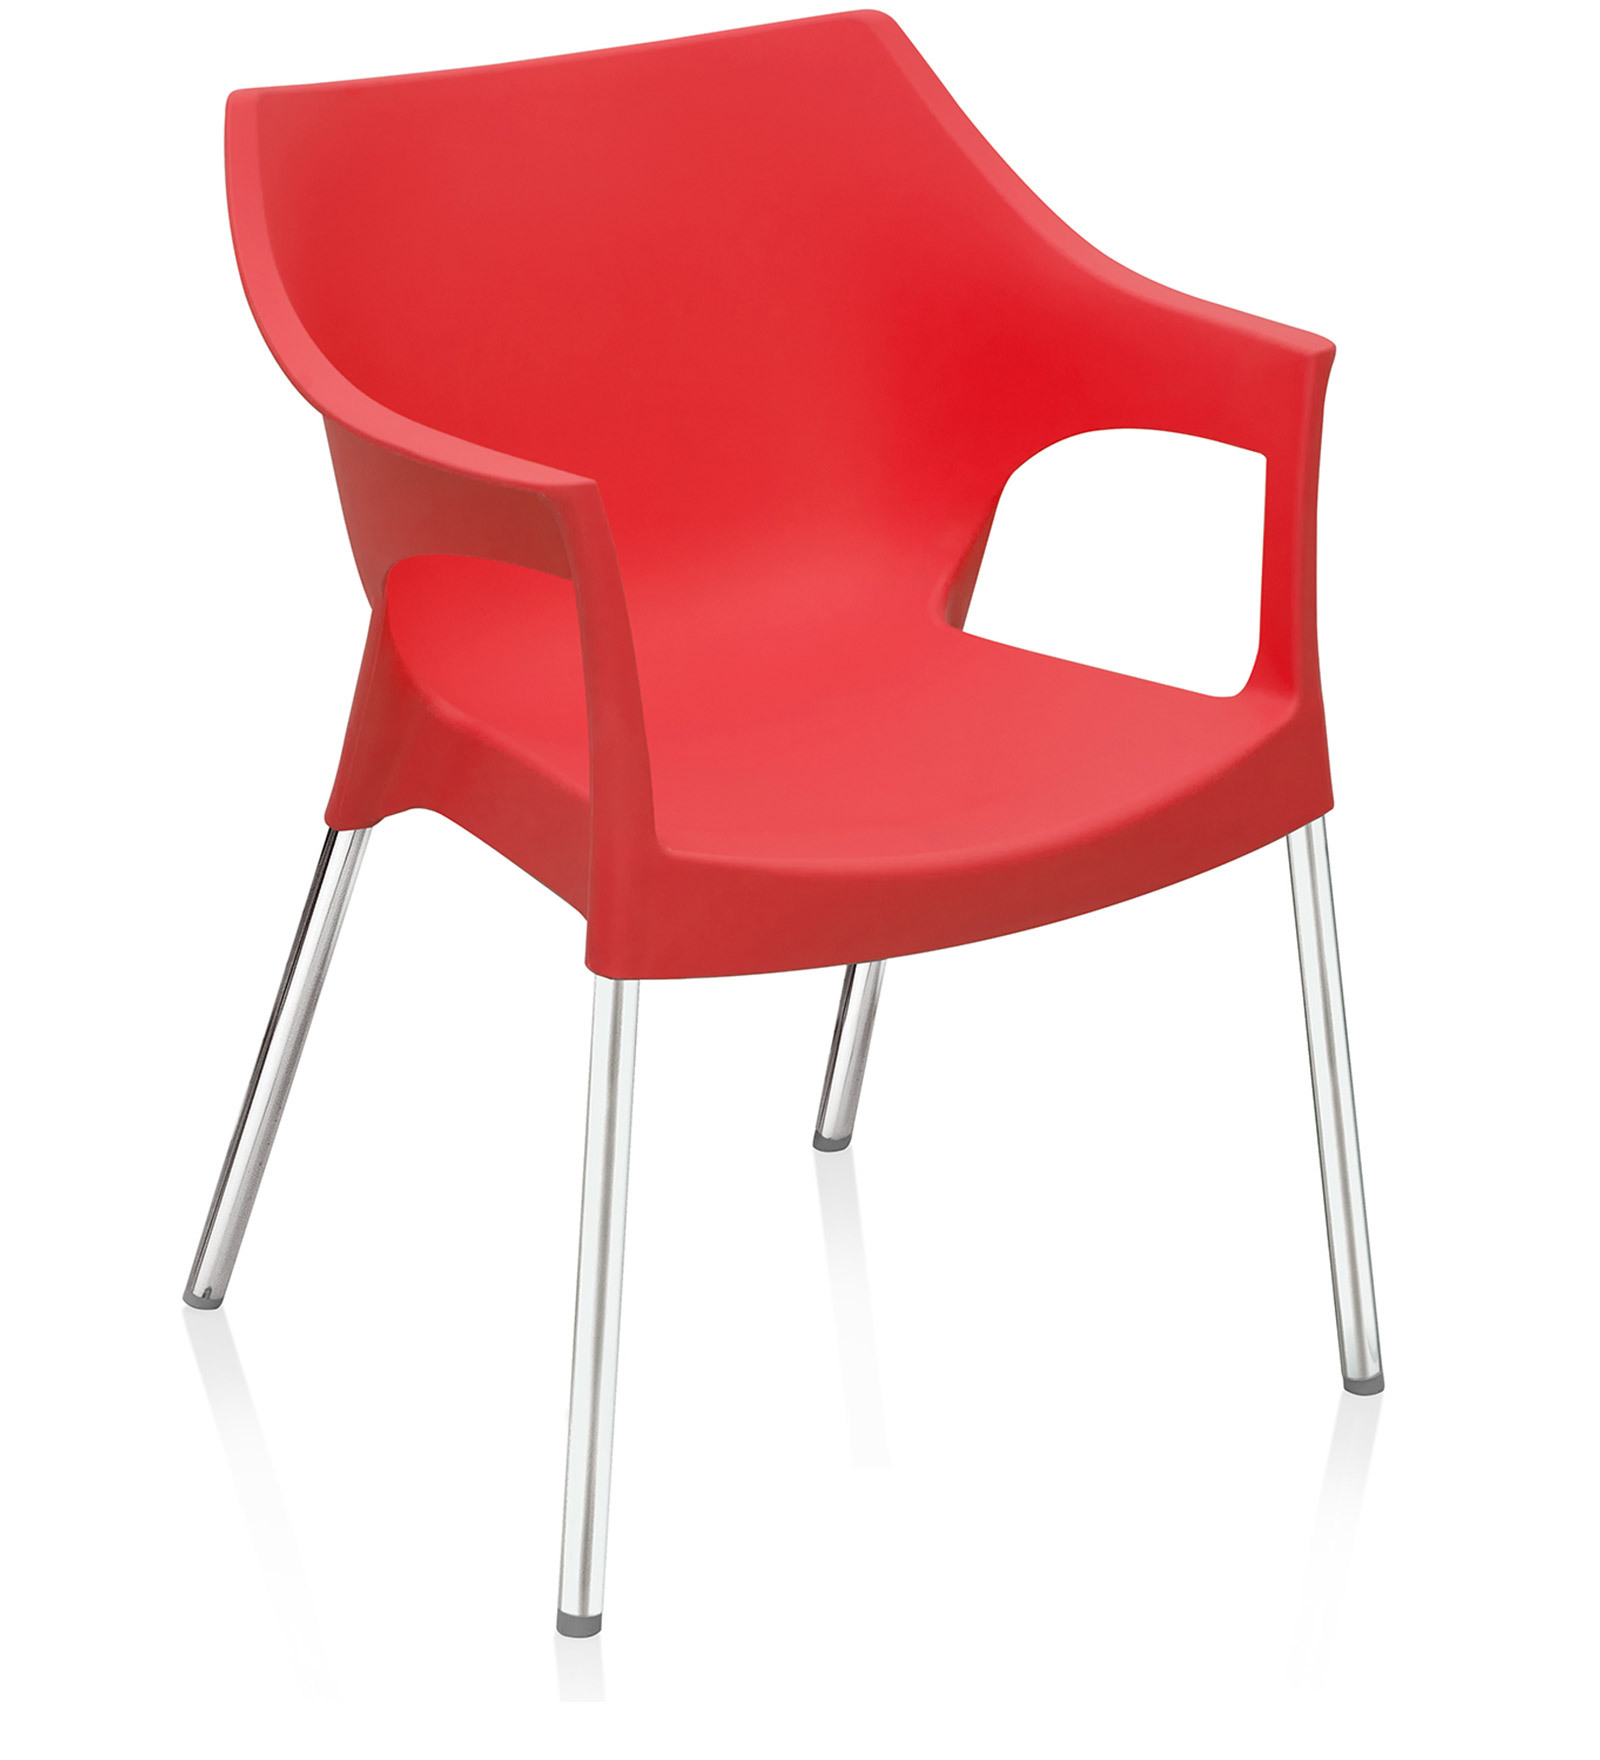Novella Series - 10 Set of 2 Chairs in Red Color by Nilkamal: (182, 2, 1402, 1653)
